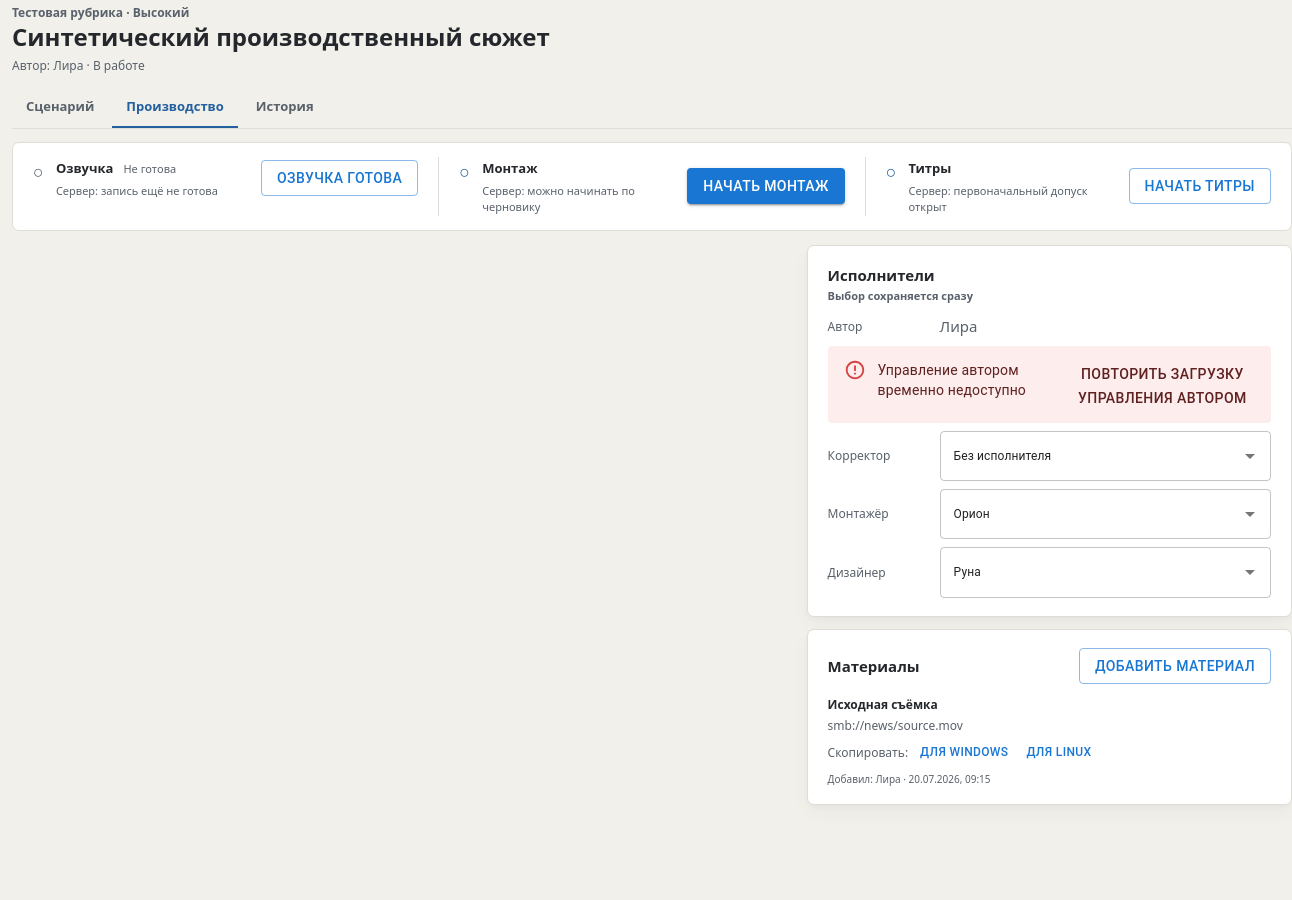
Test: StoryProductionPage server read model › keeps production usable and retries only canonical author management after its initial GET fails
Expected: the heading "Синтетический производственный сюжет" is shown, [12, 21, 550, 53]
Expected: the button "Начать монтаж" is enabled, [687, 168, 845, 204]
Click the button "Повторить загрузку управления автором": {"x": 1162, "y": 386} [1062, 356, 1263, 417]
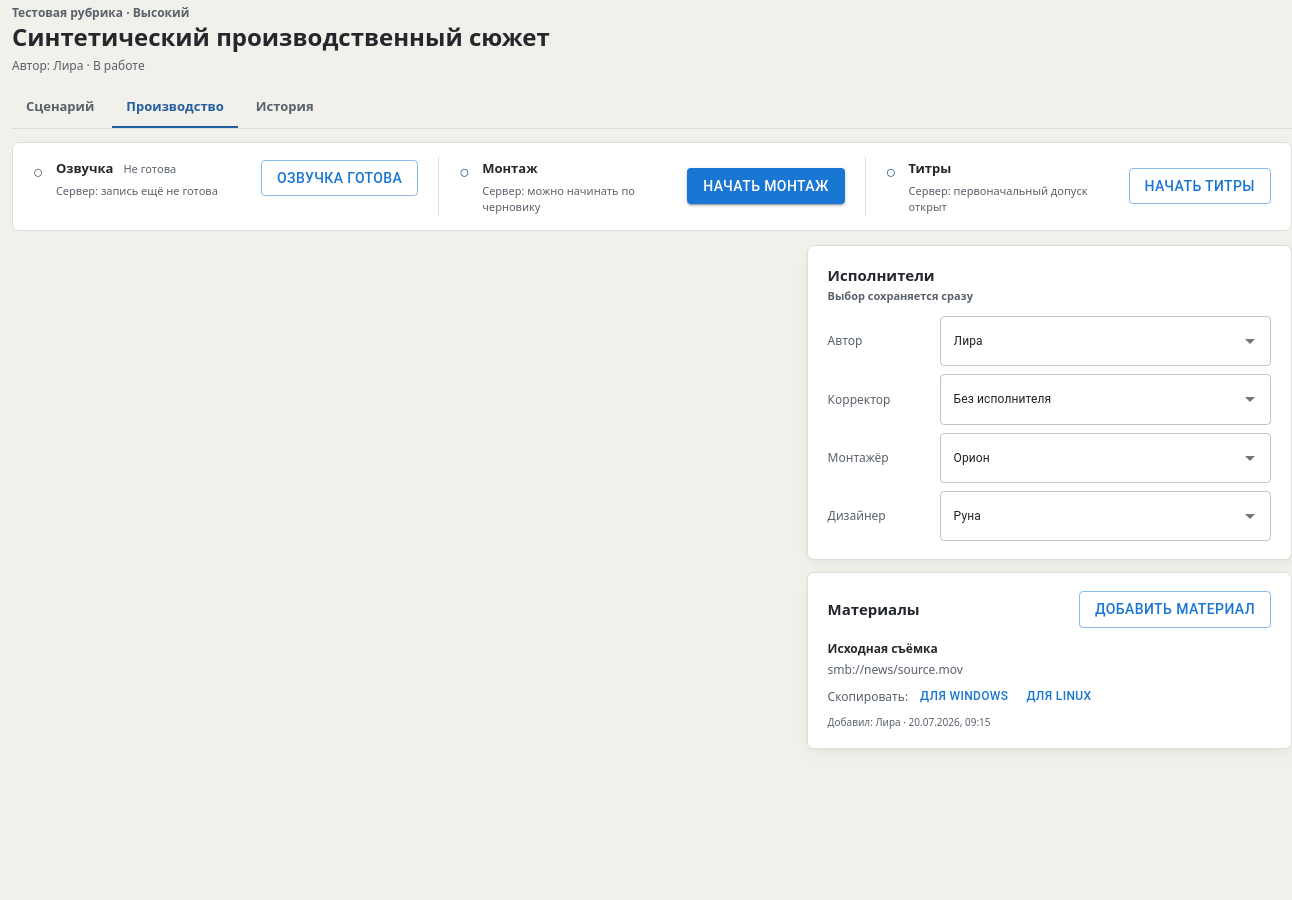
Expected: the dropdown named "Ответственный: Автор" is shown, [949, 325, 1232, 357]
Expected: the text "Управление автором временно недоступно" is gone
